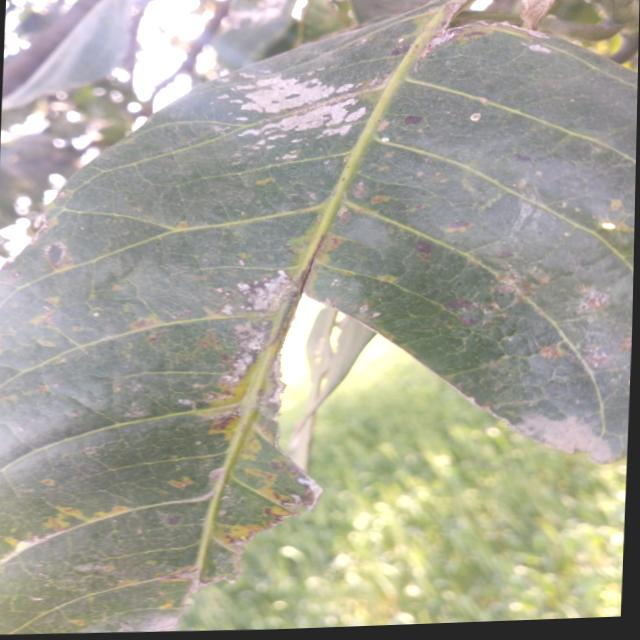Die Back: (405, 113, 424, 128)
Powdery Mildew: (510, 399, 622, 468), (236, 95, 366, 149), (219, 315, 270, 392), (243, 81, 340, 118), (240, 77, 333, 113), (225, 0, 291, 32), (249, 277, 281, 311), (528, 42, 551, 55)
